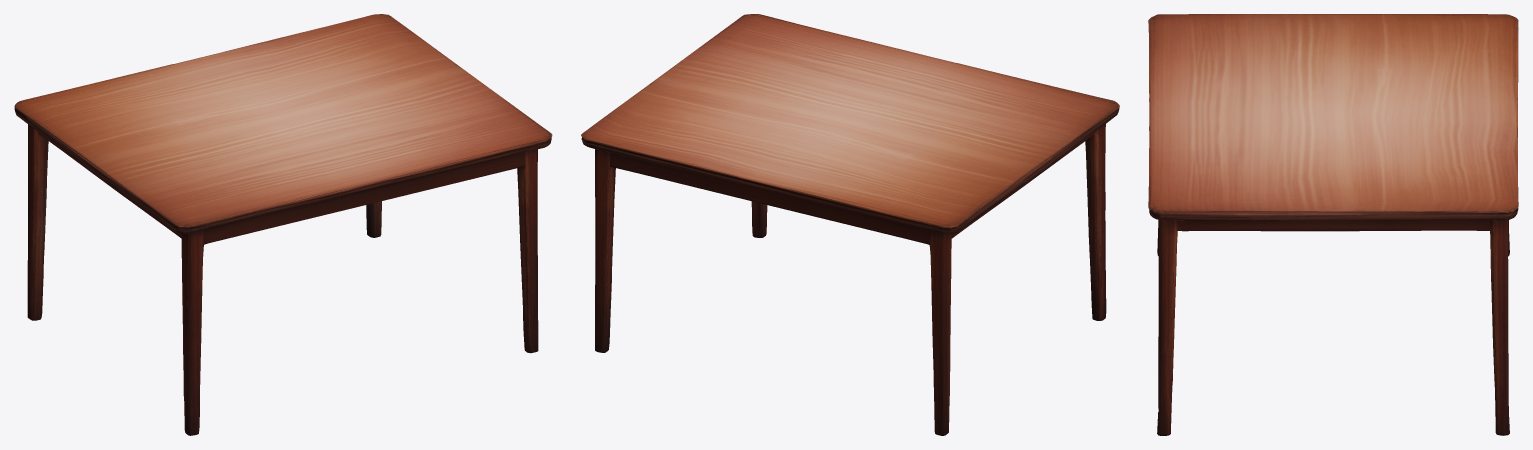
The model's file is desk-trellis.glb.
3 views of the same model, side by side, from view 1: azimuth 30°, elevation 25°; view 2: azimuth 150°, elevation 25°; view 3: azimuth 270°, elevation 25° (orthographic). The views are drawn at different scales.
Visible parts, largest first — view 1: geometry_0; view 2: geometry_0; view 3: geometry_0.
Boxes of the visible parts, x1,y1,x2,y2 form: geometry_0: [14, 14, 552, 435]; geometry_0: [581, 14, 1119, 435]; geometry_0: [1148, 14, 1518, 435].
Size of the model in its own units: 1 by 0.5488 by 0.7916.
Materials: 1 (1 with a texture image).
